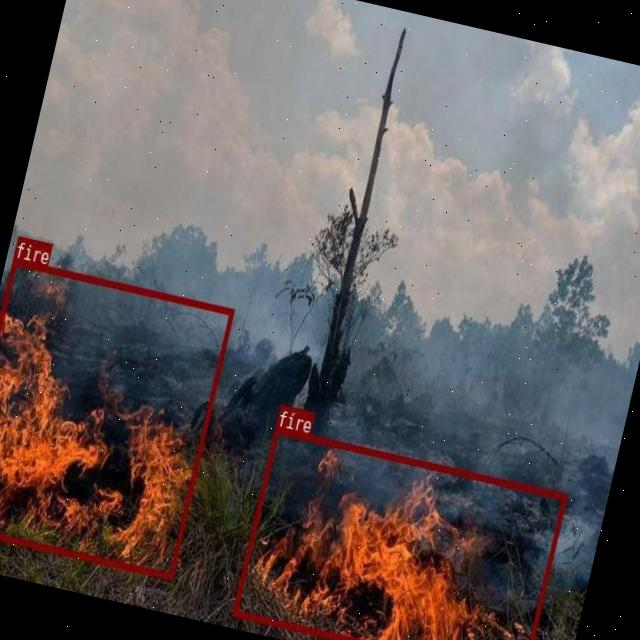fire: (0, 257, 233, 579), (231, 426, 566, 640)
